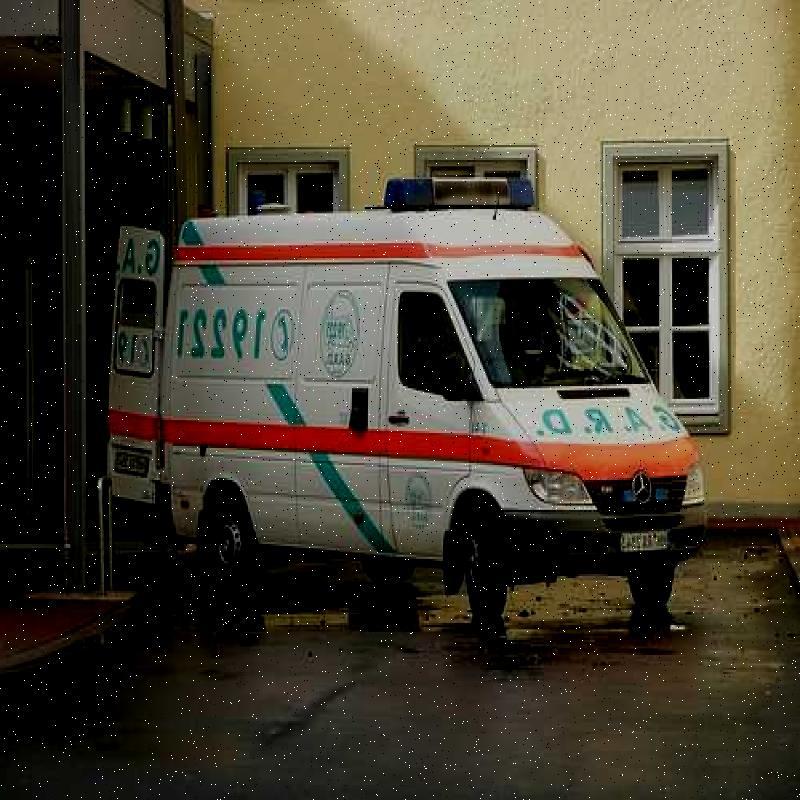AmbulanceSiren: (377, 161, 545, 239)
ambulance: (88, 63, 705, 642)
